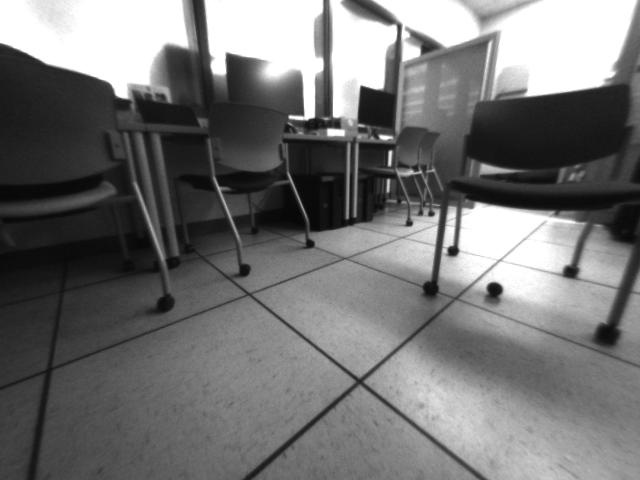dogtoy: (481, 276, 511, 303)
